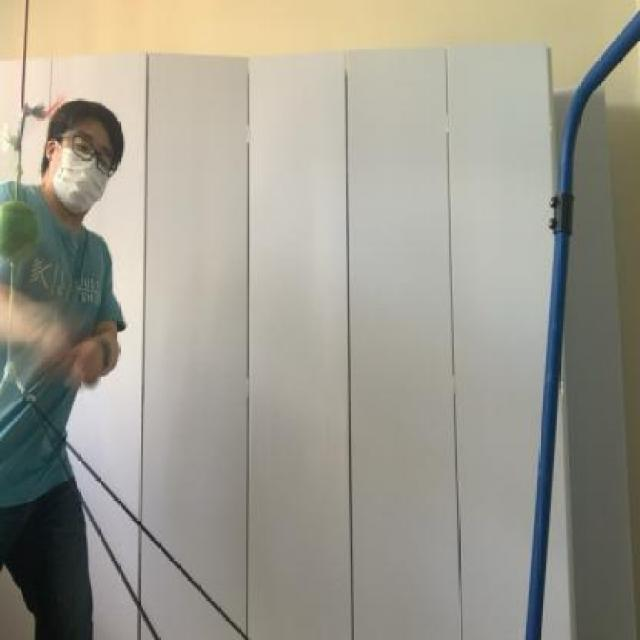baseball: (0, 192, 58, 273)
